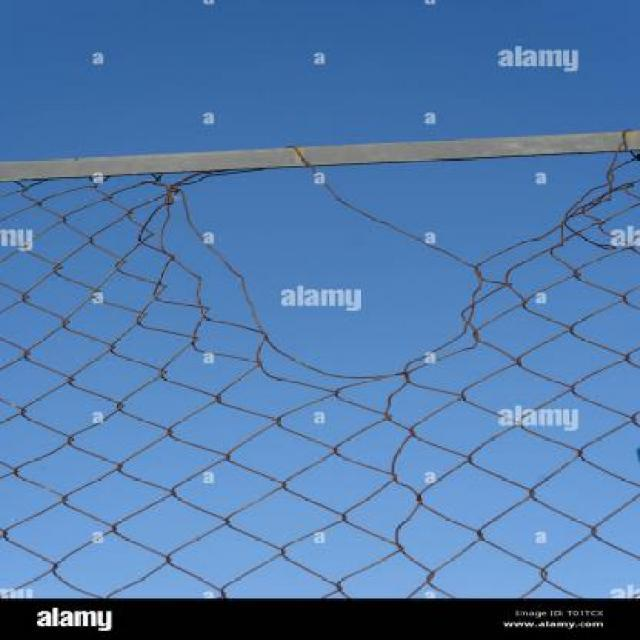fence line: (167, 172, 624, 366)
